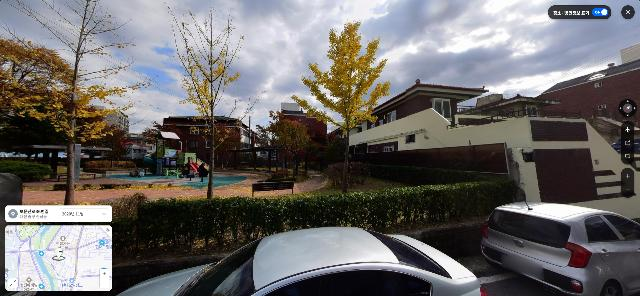ginkgo: (0, 0, 160, 206), (171, 0, 264, 199), (292, 21, 391, 193), (0, 35, 115, 149)
other: (269, 116, 312, 176), (254, 110, 293, 171), (204, 124, 242, 170), (97, 124, 128, 160)
